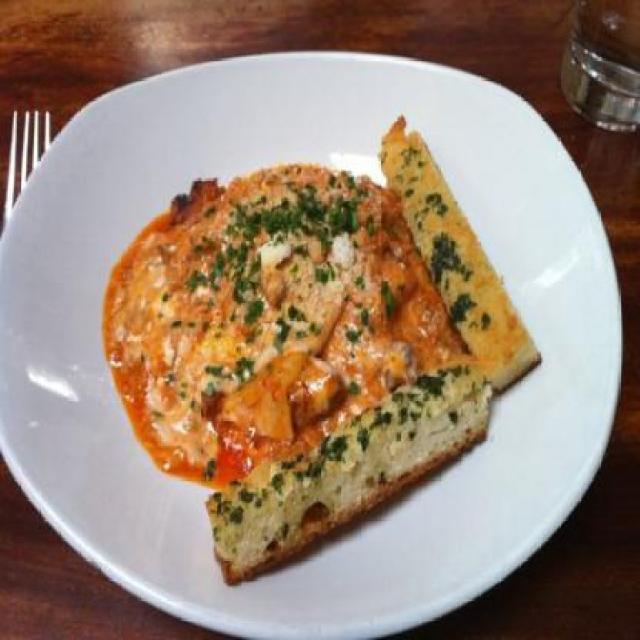Lasagna: (96, 167, 428, 430)
